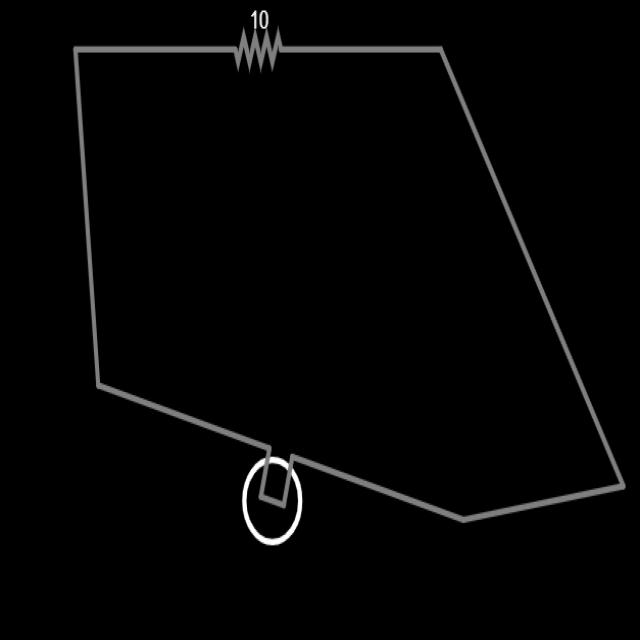Light Bulb: (242, 453, 302, 545)
Resistor: (234, 28, 282, 72)
Wire: (438, 44, 628, 489), (289, 451, 463, 524), (97, 382, 273, 454), (71, 41, 102, 390), (462, 483, 623, 523), (280, 44, 443, 54), (74, 45, 238, 54)
